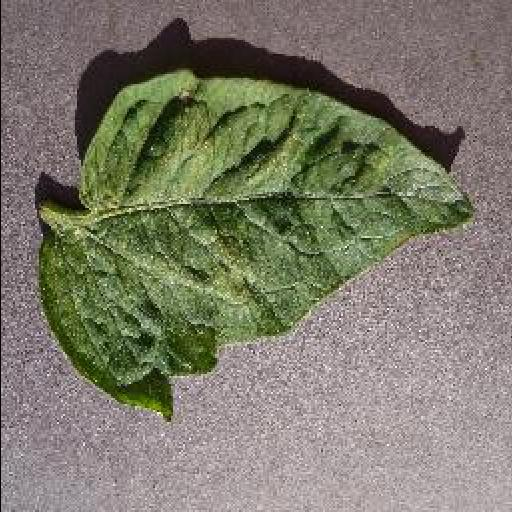disease_tomato: (40, 67, 478, 424)
